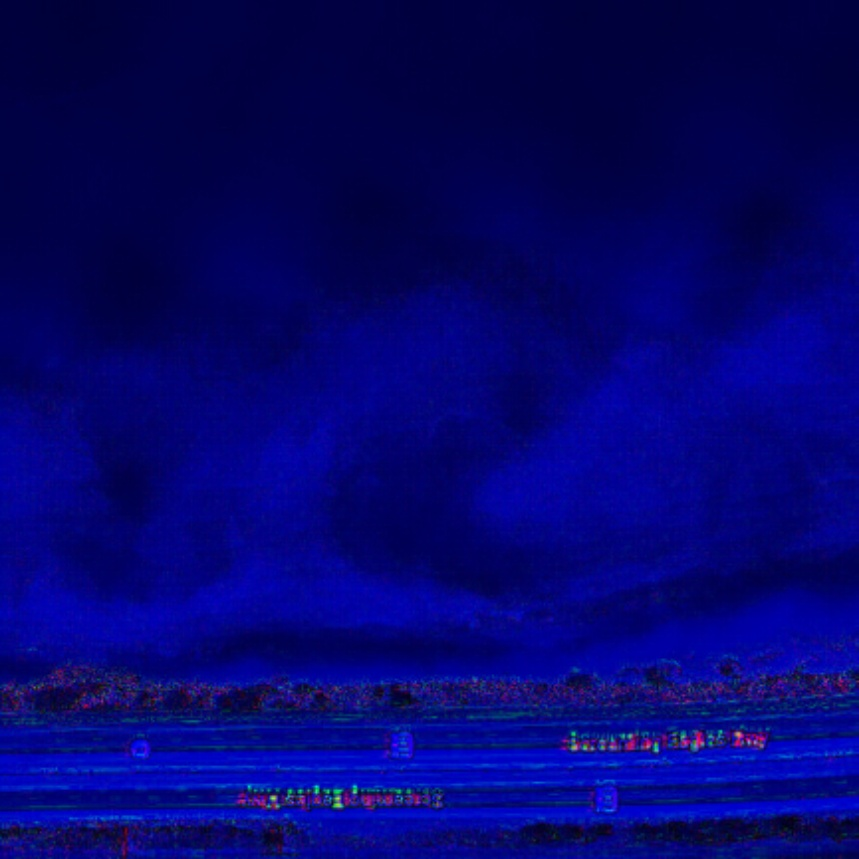rip_current: (311, 349, 597, 594)
